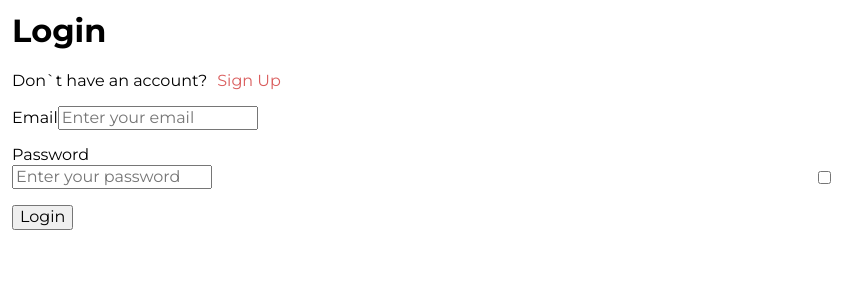
Test case: should show error if password is weak
Step 1. Type "12345678" into the password field with placeholder "Enter your password" → (112, 177), box [12,165,212,189]
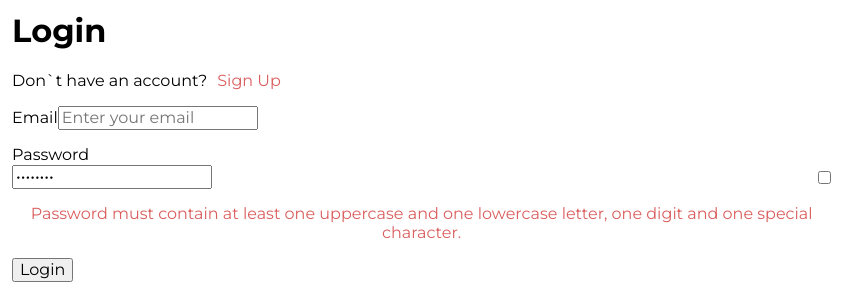
Result: the text with test id "password_error_message" shows "Password must contain at least one uppercase and one lowercase letter, one digit and one special character." at [31,204,812,242]
